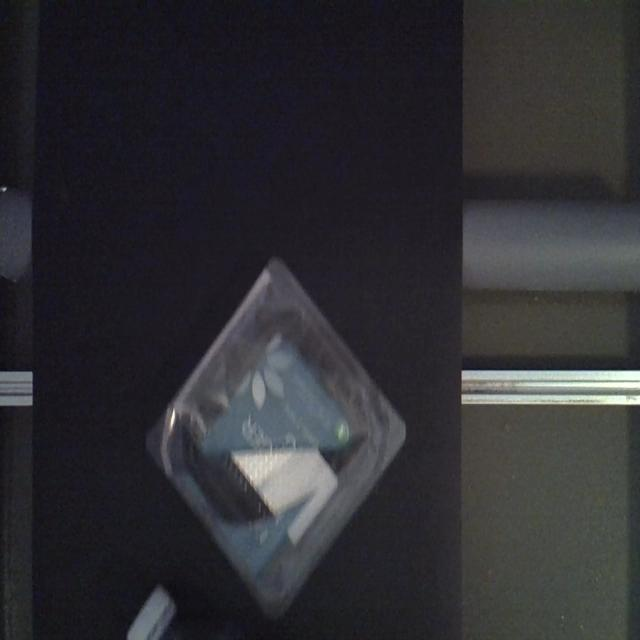mixed-plastics: (143, 252, 409, 620)
